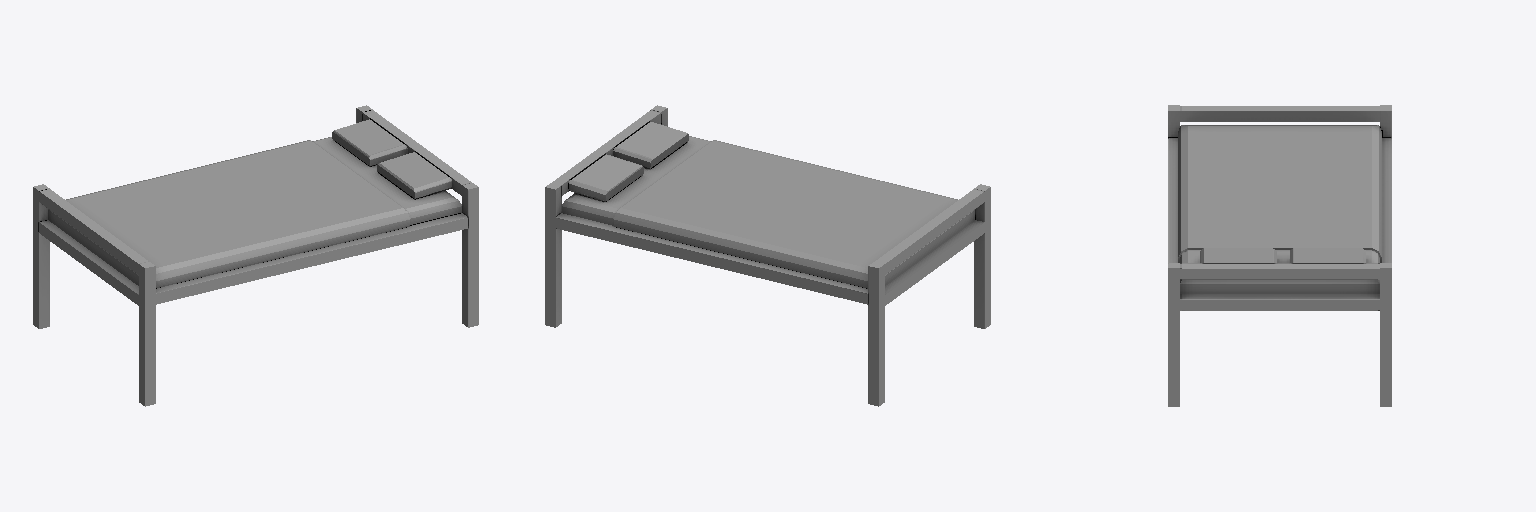
The picture shows the model from 3 angles: view 1: azimuth 30°, elevation 25°; view 2: azimuth 150°, elevation 25°; view 3: azimuth 270°, elevation 25°; orthographic projection.
Parts seen in each view (by area): view 1: pCube24; view 2: pCube24; view 3: pCube24.
Part boxes in pixels (bbox=[...]): pCube24: bbox=[33, 105, 478, 406]; pCube24: bbox=[545, 105, 990, 406]; pCube24: bbox=[1168, 105, 1391, 406].
Size of the model in its own units: 6.98 by 2.76 by 4.05.
1 materials, 1 textured.